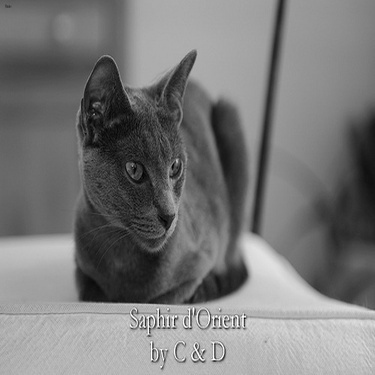cat: (68, 47, 250, 305)
